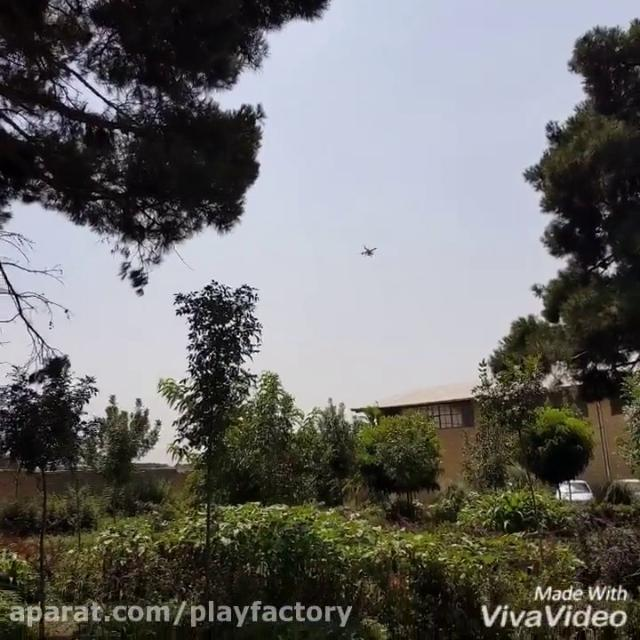drone: (357, 238, 381, 262)
